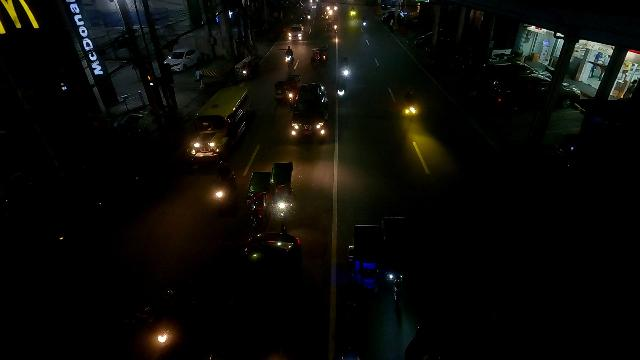car: (291, 82, 330, 142), (162, 48, 199, 72), (287, 23, 305, 41)
jeepney: (187, 86, 254, 162)
motorcycle: (401, 92, 418, 120), (335, 73, 346, 101), (340, 62, 352, 81), (285, 43, 294, 67), (361, 15, 368, 28)
